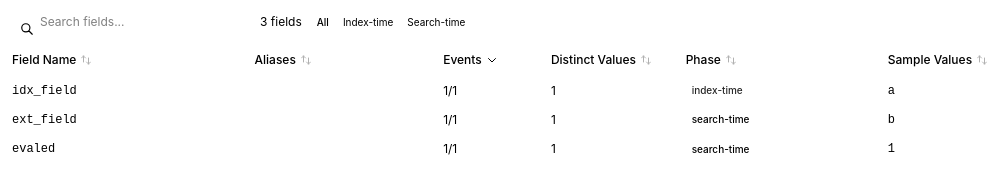
FieldsTab › filters by name when searching
Type "ext" into the field with placeholder "Search fields..." at (132, 22), box x1=12 y1=8 x2=252 y2=36
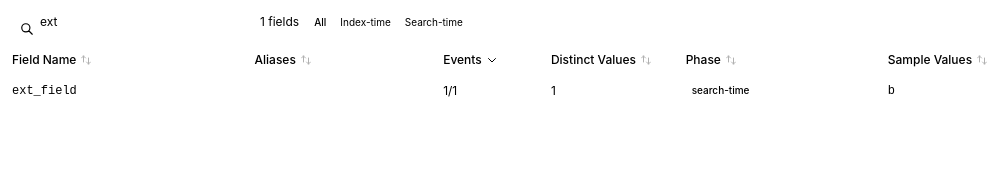
Check: the text "ext_field" is shown, box x1=12 y1=83 x2=77 y2=99
Check: the text "idx_field" is gone
